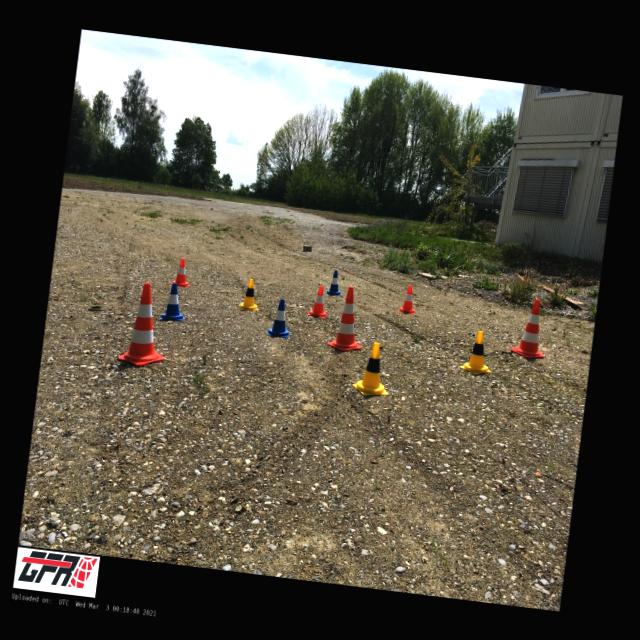blue_cone: (160, 282, 187, 321), (267, 298, 292, 337), (326, 268, 344, 296)
large_orange_cone: (116, 280, 172, 369), (326, 284, 368, 352), (510, 296, 550, 359)
orange_cone: (307, 284, 330, 318), (169, 256, 193, 286), (398, 284, 417, 314)
yellow_cone: (351, 340, 394, 399), (459, 328, 496, 377), (237, 277, 261, 311)
